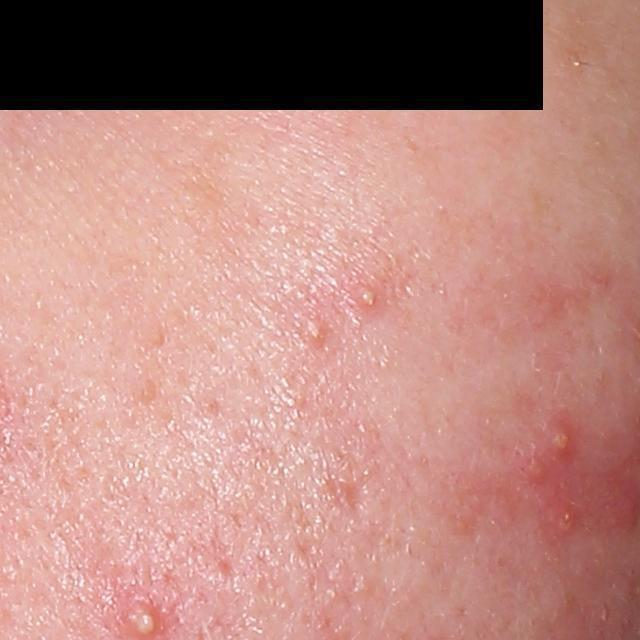atrophic_scar: (341, 472, 377, 510)
pustule: (124, 603, 158, 638), (547, 425, 570, 453), (361, 286, 377, 306)
